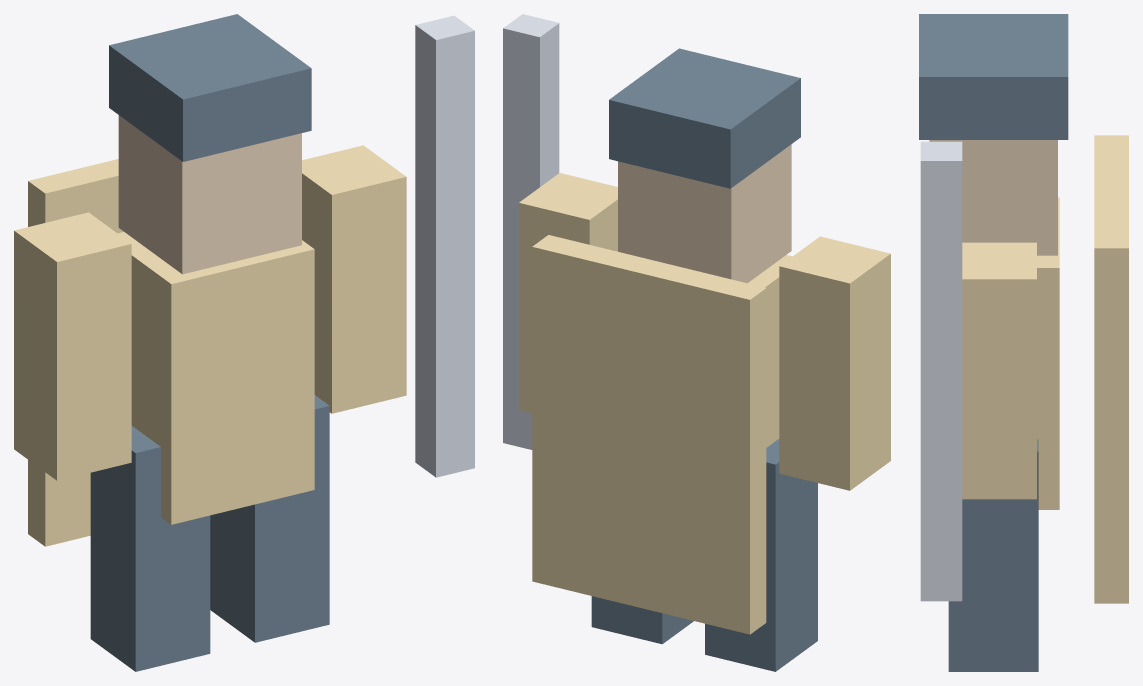
3 views of the same model, side by side, from view 1: azimuth 30°, elevation 25°; view 2: azimuth 150°, elevation 25°; view 3: azimuth 270°, elevation 25° (orthographic). The views are drawn at different scales.
Parts seen in each view (by area): view 1: torso, arm-1, bow, arm1, helmet, leg-1, head, leg1, cape; view 2: cape, arm-1, helmet, head, bow, leg-1, arm1, leg1, torso; view 3: bow, arm1, helmet, cape, leg1, head, torso.
Part boxes in pixels (x1,y1,x2,y2): torso: (118,232,314,524); arm-1: (14,212,131,480); bow: (415,15,474,477); arm1: (302,145,406,413); helmet: (109,14,311,161); leg-1: (90,426,210,671); head: (118,115,301,274); leg1: (210,395,329,642); cape: (28,159,123,546); cape: (532,235,766,634); arm-1: (779,236,890,490); helmet: (609,48,800,188); head: (618,144,791,283); bow: (503,14,559,449); leg-1: (705,439,817,671); arm1: (519,173,617,413); leg1: (591,596,693,644); torso: (748,255,792,447); bow: (920,141,962,601); arm1: (962,242,1036,499); helmet: (919,14,1068,139); cape: (1094,135,1128,603); leg1: (948,439,1038,671); head: (929,140,1057,255); torso: (1037,197,1059,509).
Bounding box in the file's own units: 1.35 × 1.84 × 0.605.
